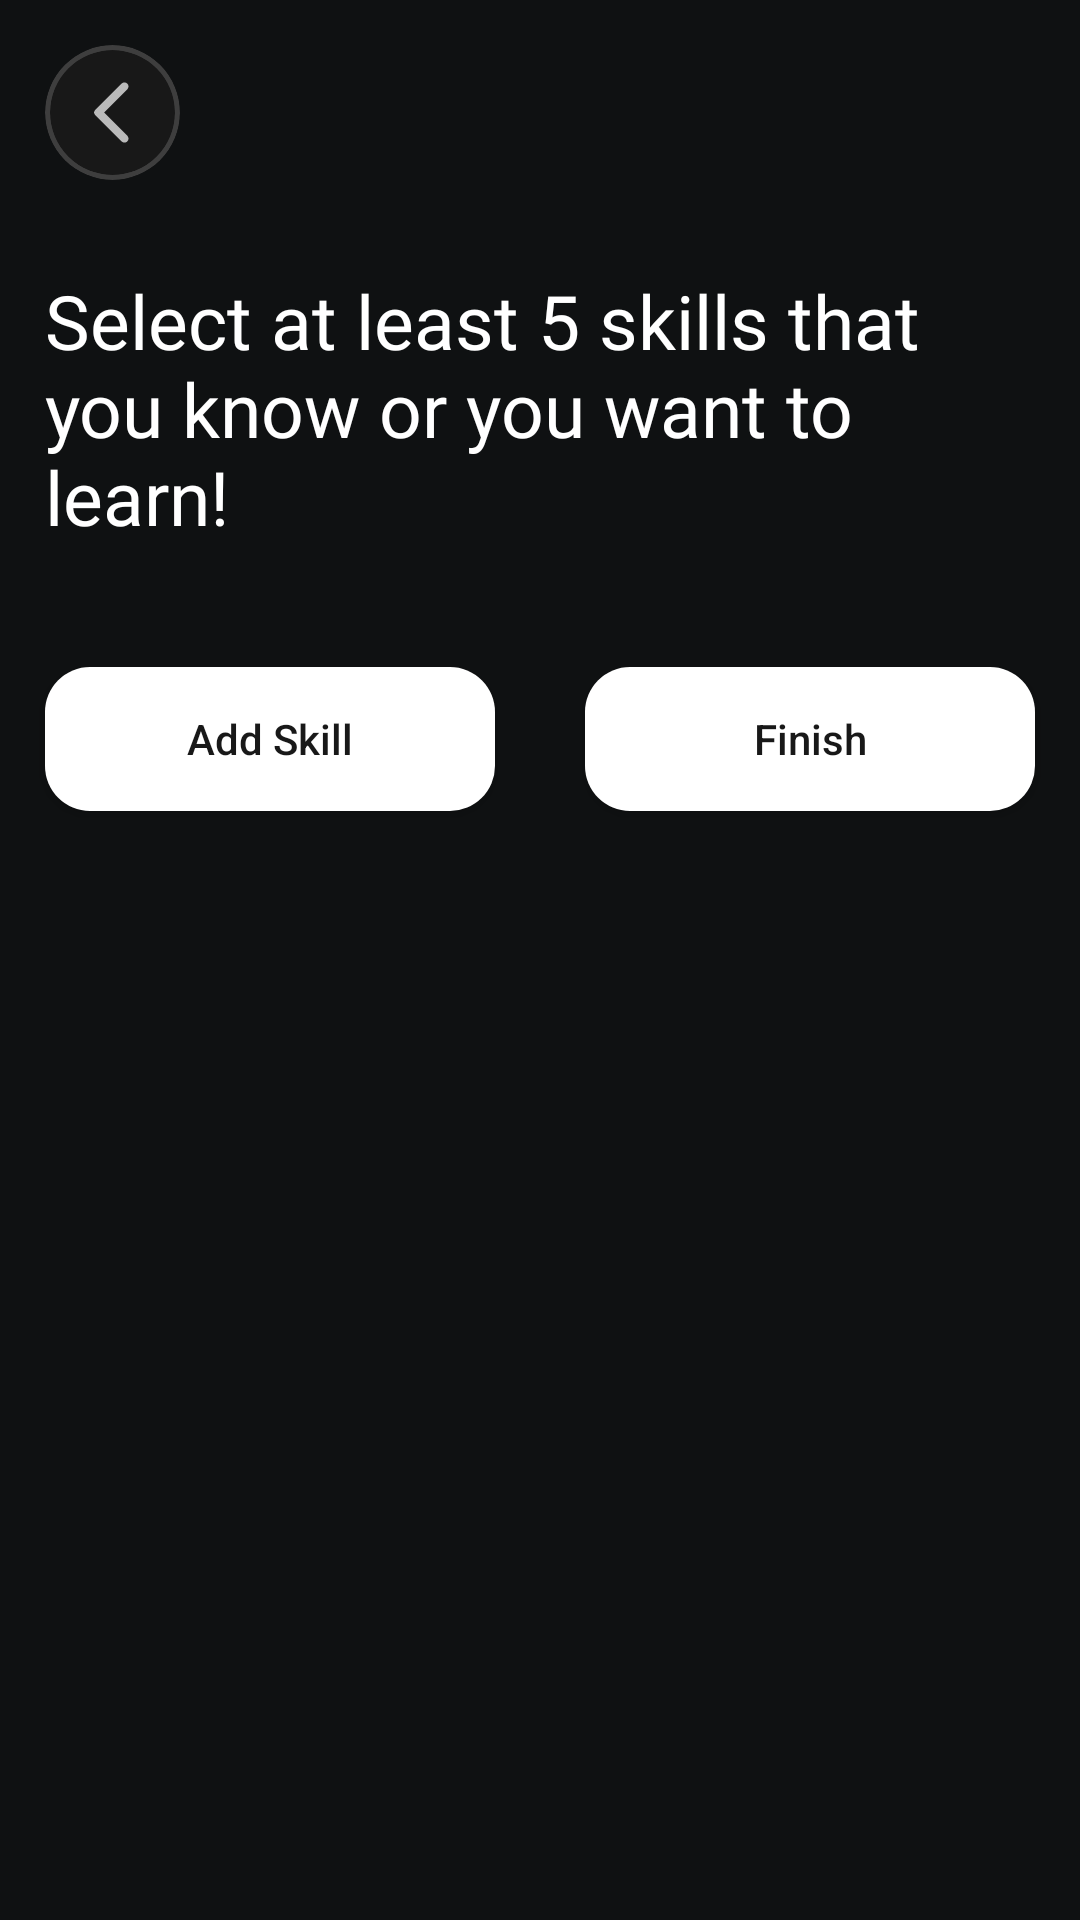

Locate icon controls on the screen. Image size 1080px x 1920px, boxes as {"left": x1, "top": y1, "right": x2, "bottom": y2}.
back: {"left": 94, "top": 82, "right": 129, "bottom": 143}
